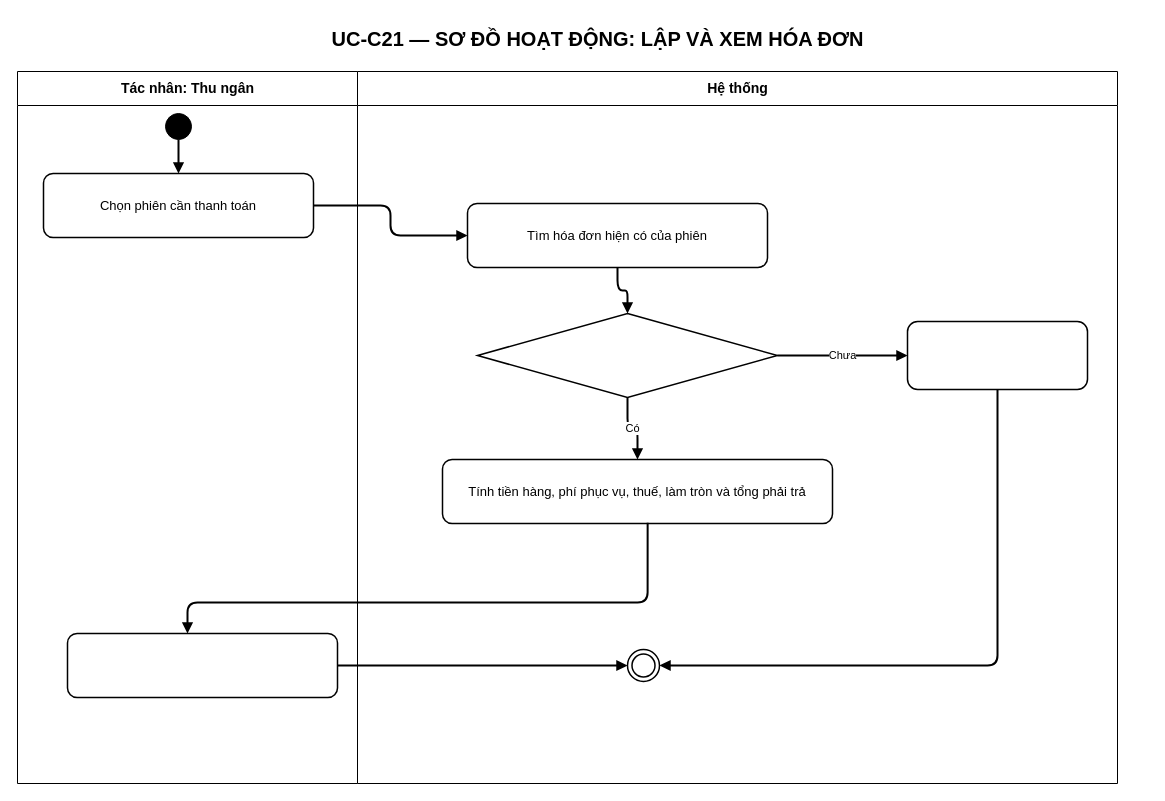
The diagram is 1165 pixels wide and 801 high, and some of its shapes have lost their labels. The centre of each missing label's shape, as x and y in pixels:
"Tạo hoá đơn" goes at [997,355].
"Xem các dòng tiền và số đã thanh toán" goes at [202,665].
"Đã có hóa đơn còn hiệu lực?" goes at [627,355].
